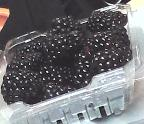berry: (1, 70, 43, 105), (46, 31, 84, 65), (90, 46, 130, 76), (87, 28, 128, 54), (86, 11, 127, 32), (71, 53, 93, 86), (9, 51, 44, 71), (42, 82, 78, 100), (40, 65, 76, 83), (19, 41, 49, 54), (53, 16, 73, 33)
